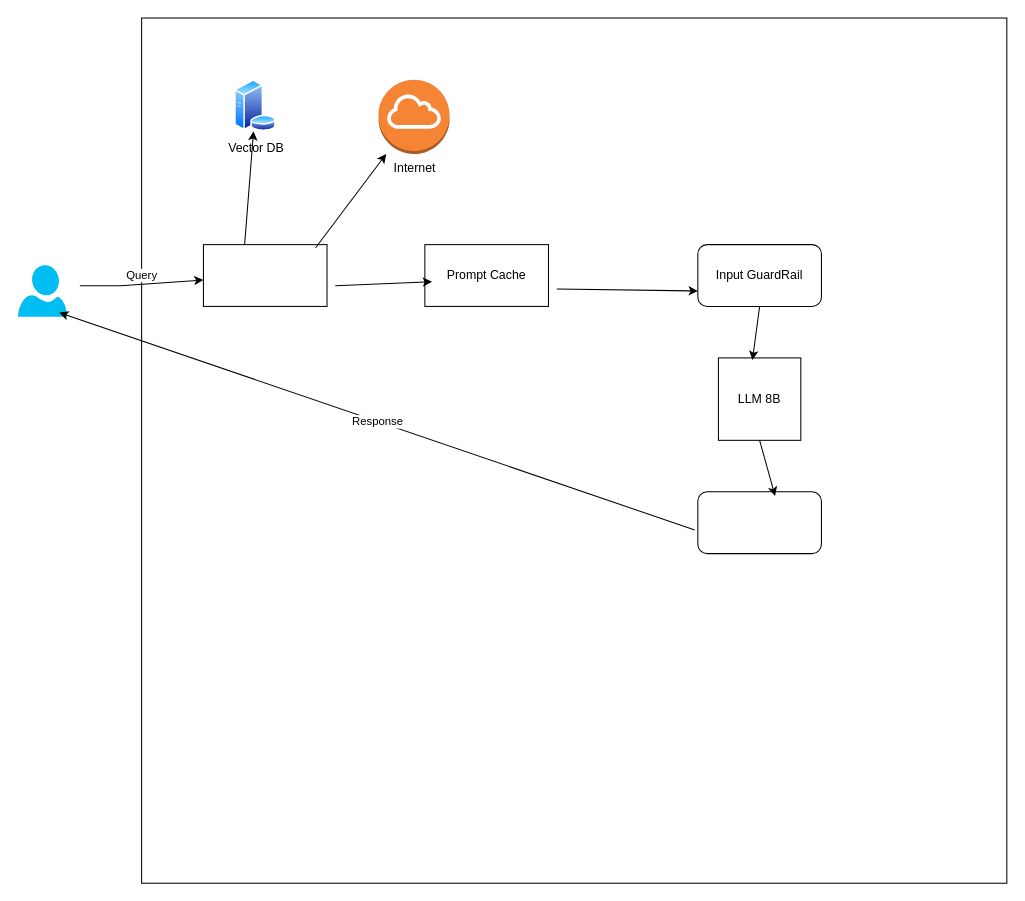
This 1025x901 diagram has some shape labels left out. The shapes that lost their labels are listed below. From the top down, each one's centre as x and y in pixels, then its label:
At pixel 264 275: "RAG".
At pixel 759 522: "Output GuardRail".
